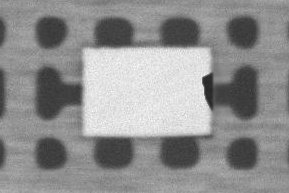DIE_BROKEN: (200, 66, 215, 116)
